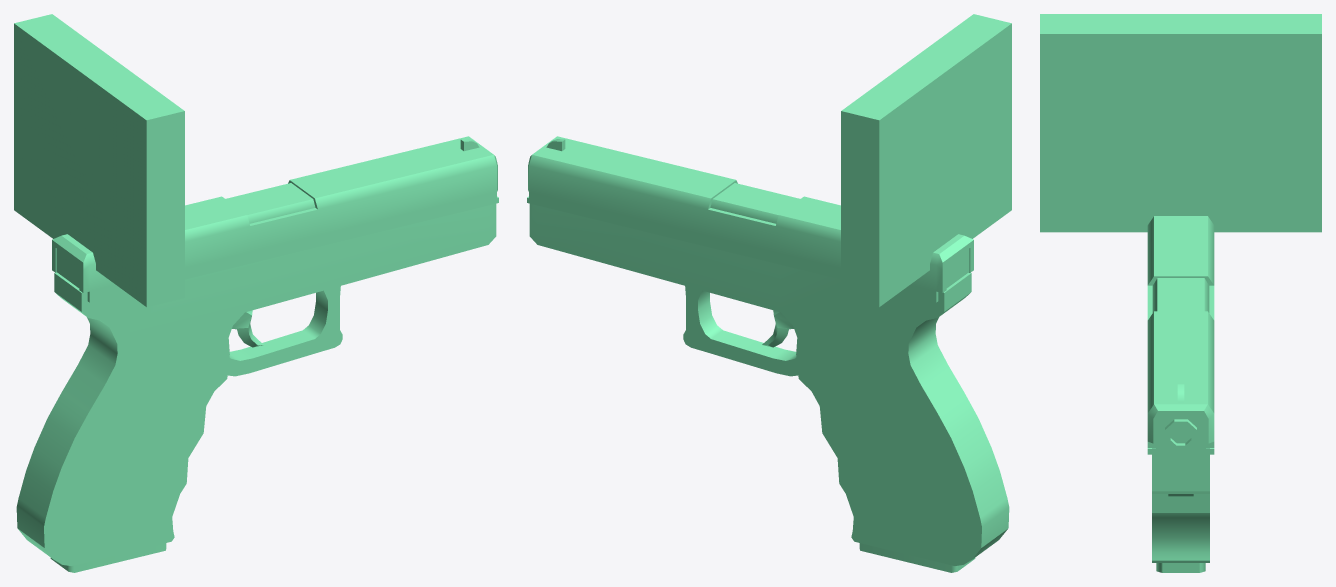
Rendered from RotateTool.obj.
3 renders of one model, left to right at view 1: azimuth 30°, elevation 25°; view 2: azimuth 150°, elevation 25°; view 3: azimuth 270°, elevation 25°, orthographic. The views are drawn at different scales.
Visible parts, largest first — view 1: Handle, Display; view 2: Handle, Display; view 3: Display, Handle.
Boxes of the visible parts, <box> form: Handle: <box>16,136,498,572</box>; Display: <box>14,14,184,307</box>; Handle: <box>527,136,1009,572</box>; Display: <box>841,14,1011,307</box>; Display: <box>1040,14,1321,232</box>; Handle: <box>1147,216,1214,572</box>.
Size of the model in its own units: 0.7168 by 0.7318 by 0.36.
